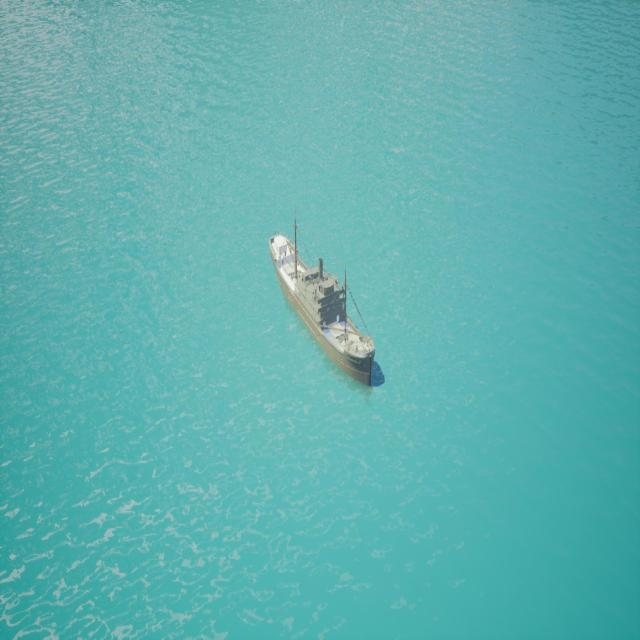fishing ship: (261, 194, 392, 399)
